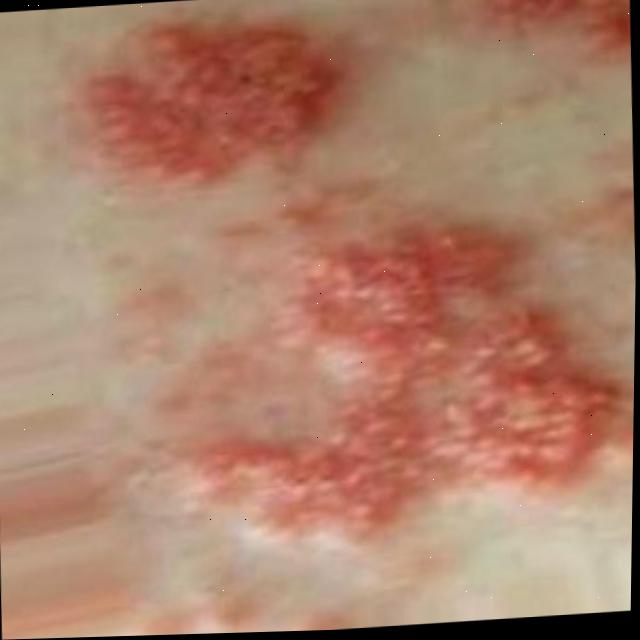Shingles: (189, 192, 633, 556), (80, 14, 350, 189), (452, 0, 631, 50)
